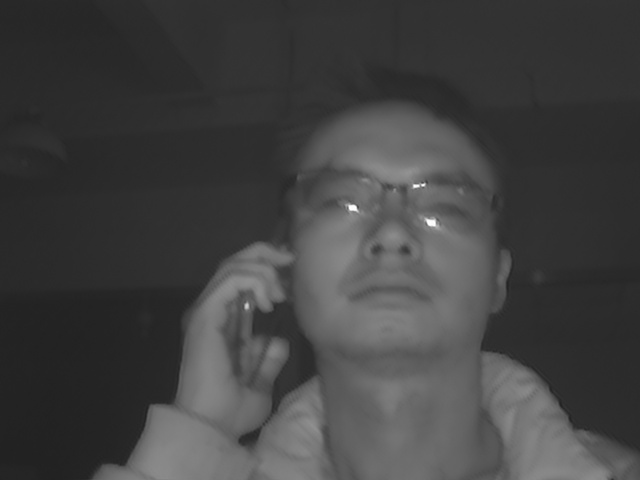hand: (171, 235, 298, 436)
